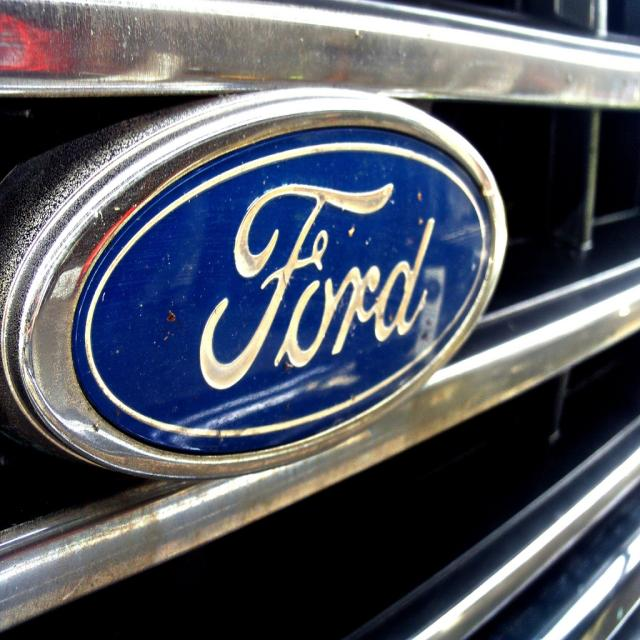ford: (2, 82, 517, 485)
